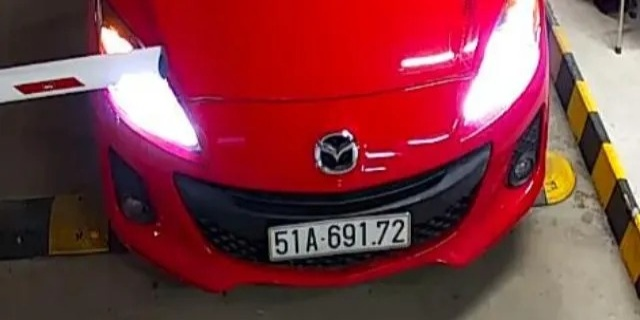bien_so: (270, 218, 409, 257)
